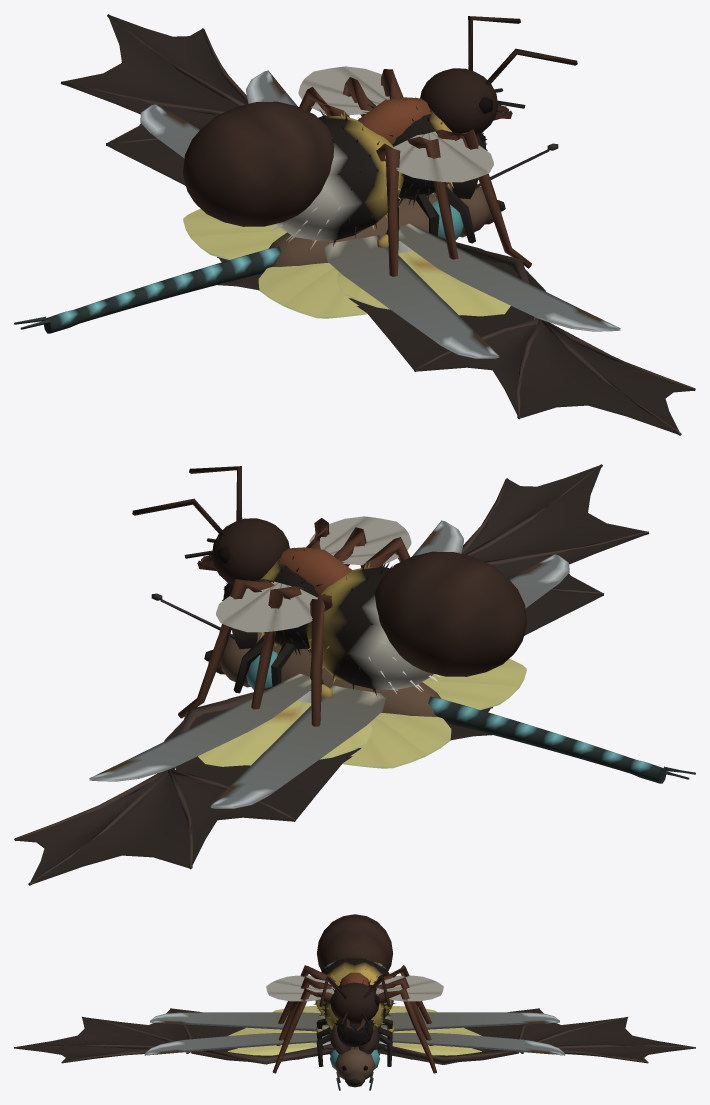
The model's file is small-life.glb.
The picture shows the model from 3 angles, top to bottom: view 1: azimuth 30°, elevation 25°; view 2: azimuth 150°, elevation 25°; view 3: azimuth 270°, elevation 25°; orthographic projection. The views are drawn at different scales.
Visible parts, largest first — view 1: myra, fladdermus-vinge-n, fladdermus-vinge-f, humla, trollslanda-bak-n, trollslanda-fram-n, trollslanda, fladdermus, fjaril-citron-bak-n, humla-vinge-n, fjaril-citron-fram-n, fjaril-citron-bak-f (+7 smaller); view 2: myra, fladdermus-vinge-f, fladdermus-vinge-n, humla, trollslanda-bak-f, trollslanda-fram-f, trollslanda, fladdermus, fjaril-citron-bak-f, fjaril-citron-fram-f, humla-vinge-f, fjaril-citron-bak-n (+7 smaller); view 3: fladdermus-vinge-f, fladdermus-vinge-n, myra, humla, trollslanda-bak-n, trollslanda-bak-f, trollslanda-fram-f, trollslanda-fram-n, fladdermus, humla-vinge-f, humla-vinge-n, fjaril-citron-fram-n (+8 smaller).
Part boxes in pixels (box(x1,y1,x2,y2)): myra: box(183, 68, 512, 226); fladdermus-vinge-n: box(348, 236, 695, 435); fladdermus-vinge-f: box(60, 14, 248, 185); humla: box(268, 88, 525, 249); trollslanda-bak-n: box(324, 235, 499, 358); trollslanda-fram-n: box(398, 223, 620, 331); trollslanda: box(14, 193, 463, 333); fladdermus: box(217, 178, 505, 290); fjaril-citron-bak-n: box(258, 262, 367, 318); humla-vinge-n: box(385, 131, 493, 182); fjaril-citron-fram-n: box(337, 250, 510, 316); fjaril-citron-bak-f: box(183, 208, 286, 259); myra: box(197, 518, 526, 676); fladdermus-vinge-f: box(14, 686, 361, 885); fladdermus-vinge-n: box(461, 464, 649, 635); humla: box(184, 538, 440, 697); trollslanda-bak-f: box(210, 685, 385, 808); trollslanda-fram-f: box(89, 673, 311, 781); trollslanda: box(246, 644, 695, 783); fladdermus: box(204, 628, 492, 740); fjaril-citron-bak-f: box(342, 712, 451, 768); fjaril-citron-fram-f: box(198, 700, 372, 766); humla-vinge-f: box(216, 581, 324, 632); fjaril-citron-bak-n: box(422, 658, 526, 709); fladdermus-vinge-f: box(376, 1008, 695, 1064); fladdermus-vinge-n: box(14, 1008, 333, 1064); myra: box(317, 914, 392, 1031); humla: box(313, 955, 395, 1066); trollslanda-bak-n: box(150, 1012, 328, 1031); trollslanda-bak-f: box(380, 1012, 559, 1031); trollslanda-fram-f: box(379, 1033, 565, 1055); trollslanda-fram-n: box(144, 1033, 330, 1055); fladdermus: box(330, 1025, 379, 1087); humla-vinge-f: box(376, 975, 443, 1001); humla-vinge-n: box(266, 975, 334, 1001); fjaril-citron-fram-n: box(228, 1027, 316, 1055).
Bounding box in the file's own units: 0.5359 × 0.2178 × 1.
